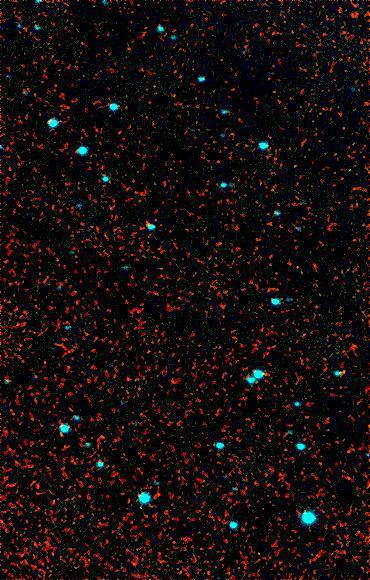star: (41, 417, 71, 447)
